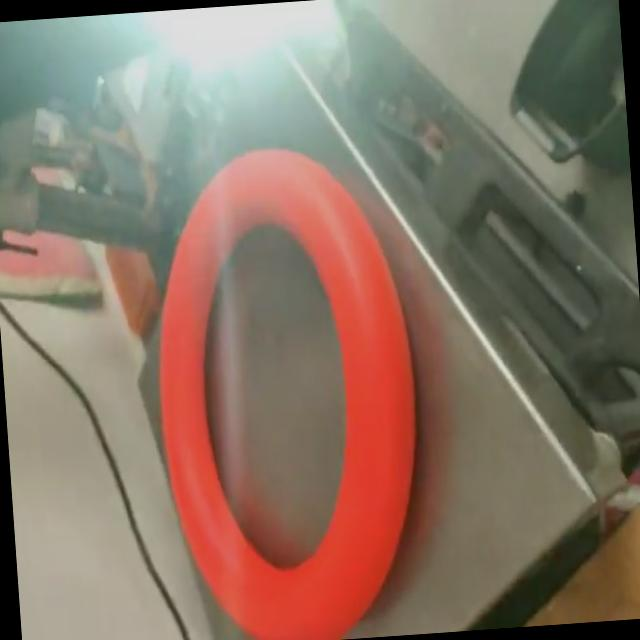note: (138, 134, 439, 640)
